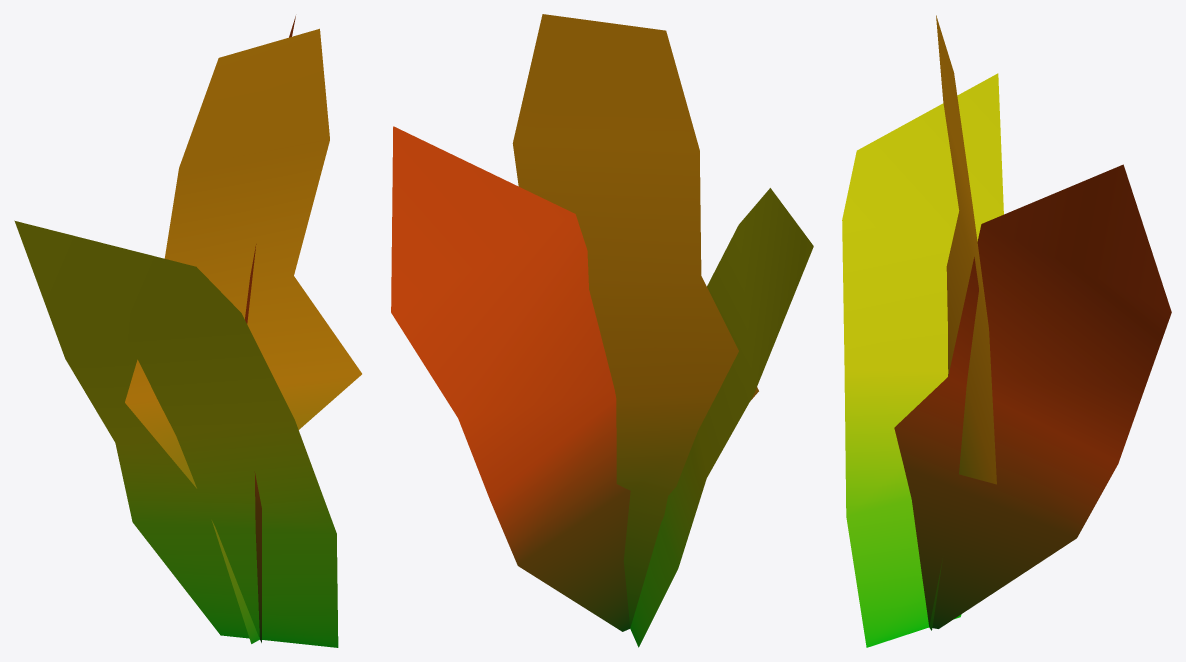
File: Var3_LOD2.fbx
3 views of the same model, side by side, from view 1: azimuth 30°, elevation 25°; view 2: azimuth 150°, elevation 25°; view 3: azimuth 270°, elevation 25° (orthographic). The views are drawn at different scales.
Parts seen in each view (by area): view 1: _2174_Var3_LOD2; view 2: _2174_Var3_LOD2; view 3: _2174_Var3_LOD2.
Part boxes in pixels (box(x1,y1,x2,y2)): _2174_Var3_LOD2: box(14, 16, 361, 647); _2174_Var3_LOD2: box(391, 14, 813, 647); _2174_Var3_LOD2: box(842, 15, 1171, 647).
Bounding box in the file's own units: 19.59 × 31.8 × 15.94.
